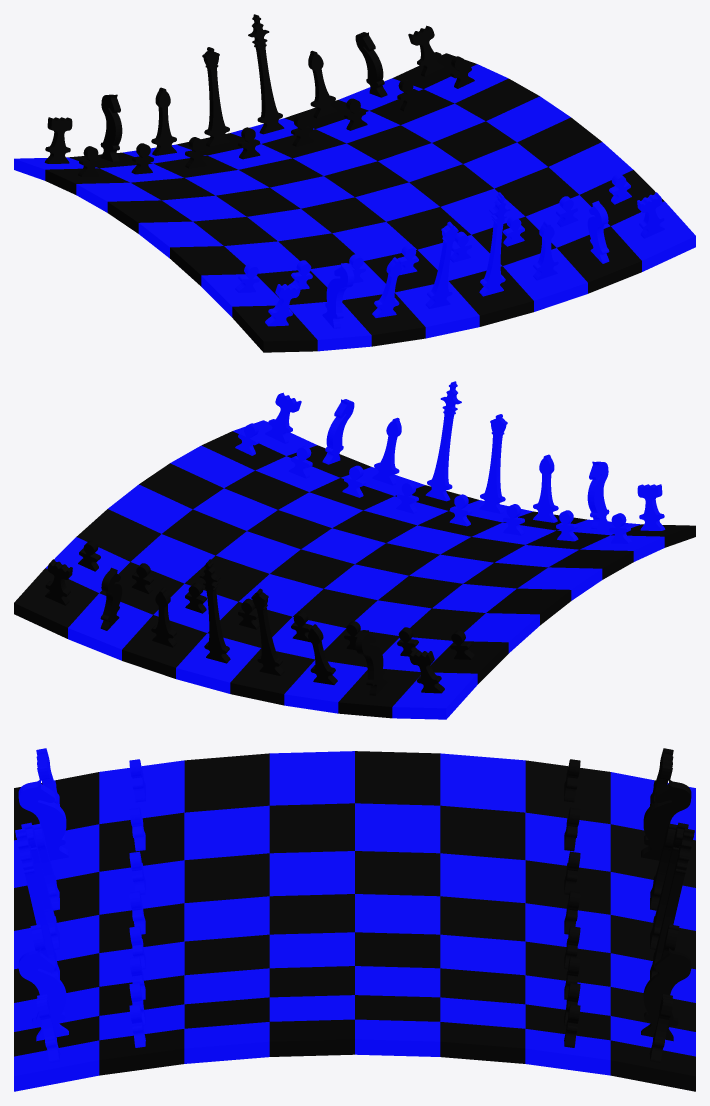
Rendered from Chess.glb.
3 renders of one model, top to bottom at view 1: azimuth 30°, elevation 25°; view 2: azimuth 150°, elevation 25°; view 3: azimuth 270°, elevation 25°, orthographic. The views are drawn at different scales.
Bounding box in the file's own units: 8 × 2.23 × 8.
